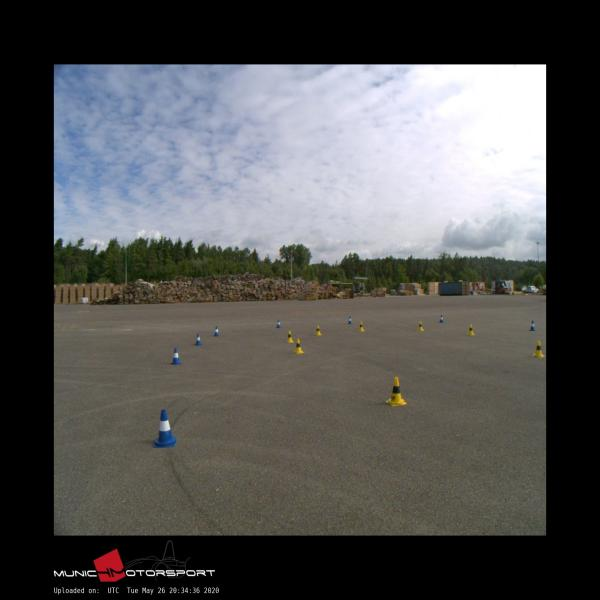blue_cone: (154, 410, 176, 447), (171, 348, 181, 364), (194, 334, 201, 344), (214, 326, 220, 336), (529, 320, 535, 330), (439, 314, 444, 323), (276, 319, 280, 328), (348, 316, 352, 324)
yellow_cone: (385, 376, 406, 405), (532, 341, 544, 357), (293, 338, 303, 353), (285, 331, 293, 343), (468, 324, 475, 335), (416, 322, 424, 330), (315, 325, 321, 335), (358, 321, 364, 331)
